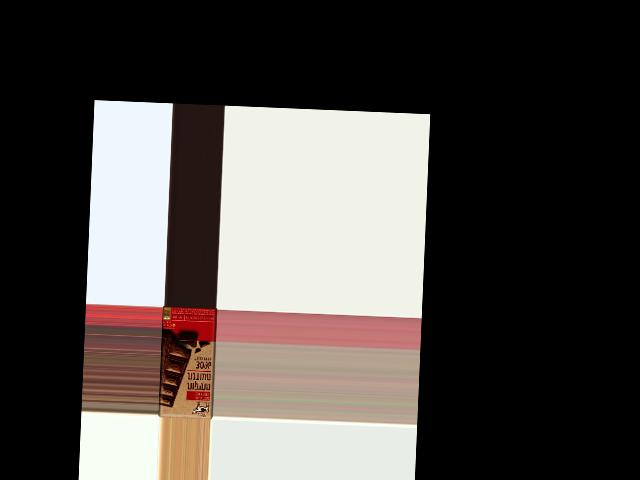chocolate: (158, 306, 217, 419)
